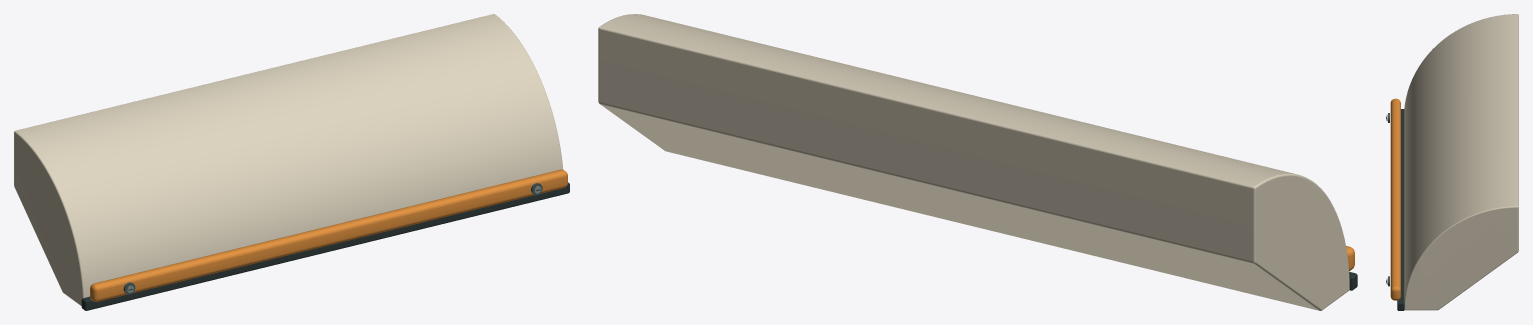
The model's file is roof-edge-2m.glb.
The picture shows the model from 3 angles, left to right: view 1: azimuth 30°, elevation 25°; view 2: azimuth 150°, elevation 25°; view 3: azimuth 270°, elevation 25°; orthographic projection. The views are drawn at different scales.
Visible parts, largest first — view 1: roof-edge-2m / 01 • warm porcelain paint, roof-edge-2m / 03 • ochre enamel, roof-edge-2m / 04 • graphite gasket; view 2: roof-edge-2m / 01 • warm porcelain paint; view 3: roof-edge-2m / 01 • warm porcelain paint, roof-edge-2m / 03 • ochre enamel, roof-edge-2m / 04 • graphite gasket.
Part boxes in pixels (x1,y1,x2,y2): roof-edge-2m / 01 • warm porcelain paint: [14, 14, 563, 305]; roof-edge-2m / 03 • ochre enamel: [90, 169, 567, 301]; roof-edge-2m / 04 • graphite gasket: [81, 182, 569, 310]; roof-edge-2m / 01 • warm porcelain paint: [598, 14, 1349, 310]; roof-edge-2m / 01 • warm porcelain paint: [1404, 14, 1518, 310]; roof-edge-2m / 03 • ochre enamel: [1390, 98, 1400, 300]; roof-edge-2m / 04 • graphite gasket: [1386, 109, 1404, 310].
Size of the model in its own units: 2 by 0.4998 by 0.577.
